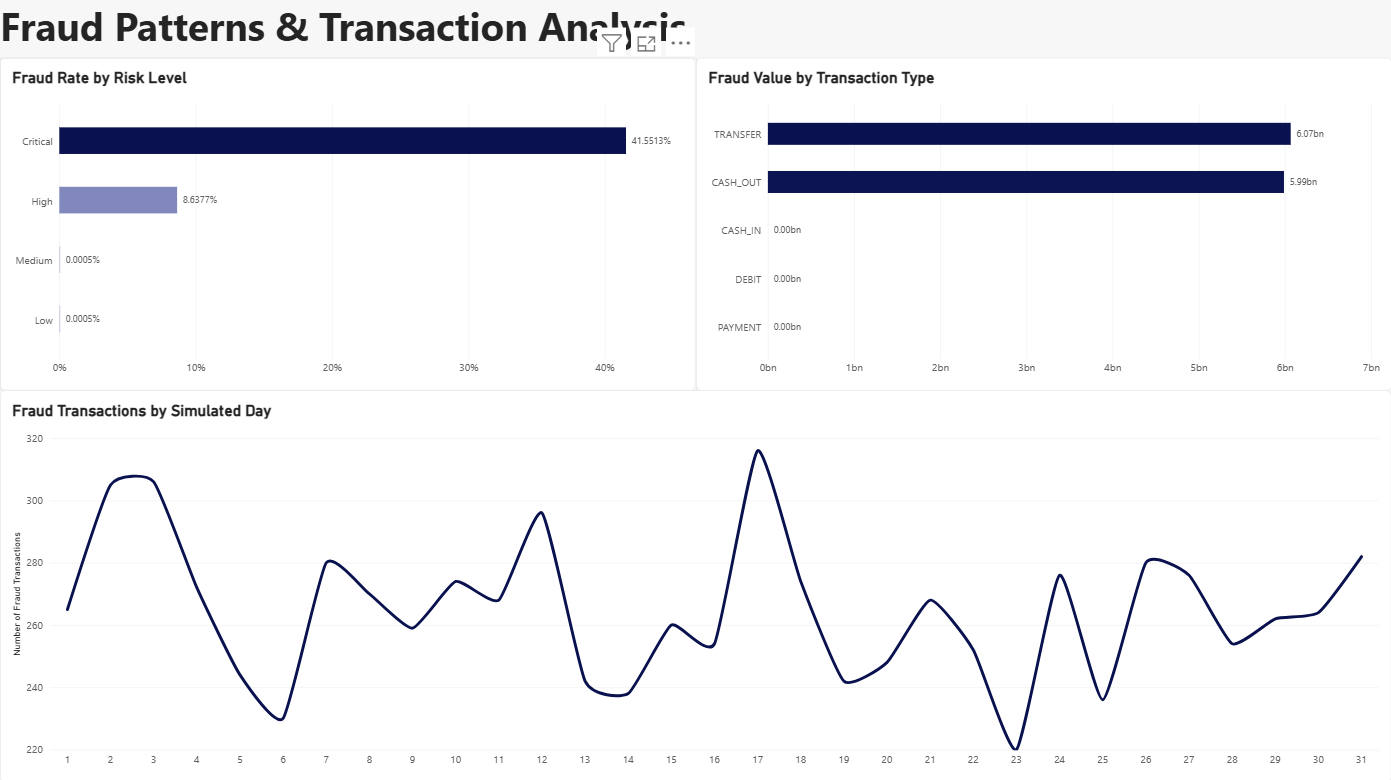

Layout of this report page (visuals, bound fields, positions):
{"tool":"powerbi","page":{"name":"Fraud Analysis","canvas":[1920,1080],"ordinal":1},"visuals":[{"type":"textbox","box":[0,0,1918.8,81.2],"z":0},{"type":"clusteredBarChart","title":"Fraud Rate by Risk Level","fields":{"Category":["RiskOrder.Risk Level"],"Y":["public vw_fraud_by_risk_level.Fraud Rate Risk"]},"box":[0,81,959.5,459.5],"z":1000},{"type":"lineChart","title":"Fraud Transactions by Simulated Day","fields":{"Category":["public vw_fraud_by_day.day"],"Y":["Sum(public vw_fraud_by_day.fraud_transactions)"]},"box":[0,540.5,1919,540.5],"z":2000},{"type":"clusteredBarChart","title":"Fraud Value by Transaction Type","fields":{"Category":["public vw_fraud_by_type.type"],"Y":["Sum(public vw_fraud_by_type.fraud_value)"]},"box":[960,81,960,459],"z":3000}]}

Visuals, with their boxes in screenshot pixels (x1, y1, x2, y2), scaled from the page's 1920x1080 canvas onto the 1391x780 screenshot:
textbox: [x1=0, y1=0, x2=1390, y2=59]
"Fraud Rate by Risk Level" clusteredBarChart: [x1=0, y1=58, x2=695, y2=390]
"Fraud Transactions by Simulated Day" lineChart: [x1=0, y1=390, x2=1390, y2=779]
"Fraud Value by Transaction Type" clusteredBarChart: [x1=696, y1=58, x2=1390, y2=390]
